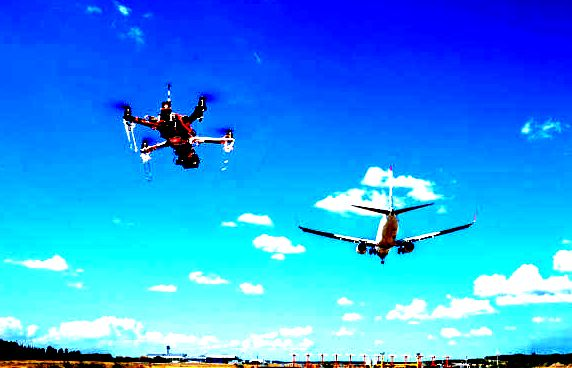Drone: (100, 79, 240, 183)
